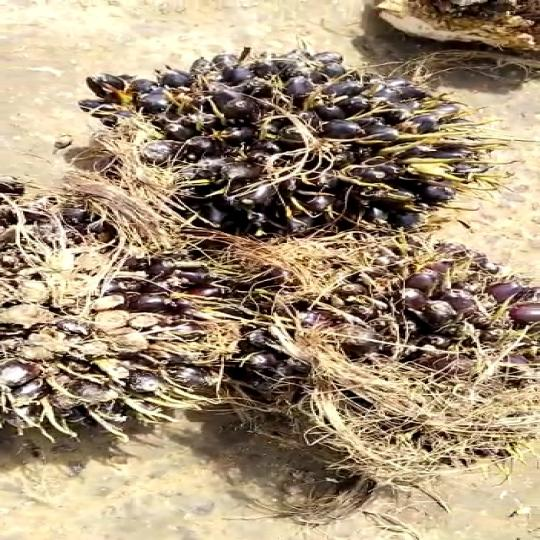mentah: (193, 211, 540, 515), (0, 175, 242, 473), (62, 41, 454, 223)
